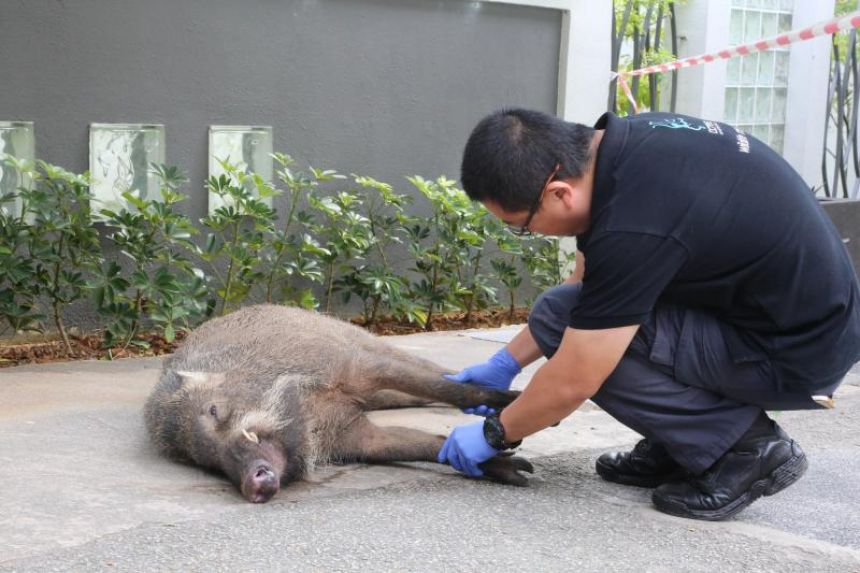boar: (135, 295, 441, 512)
